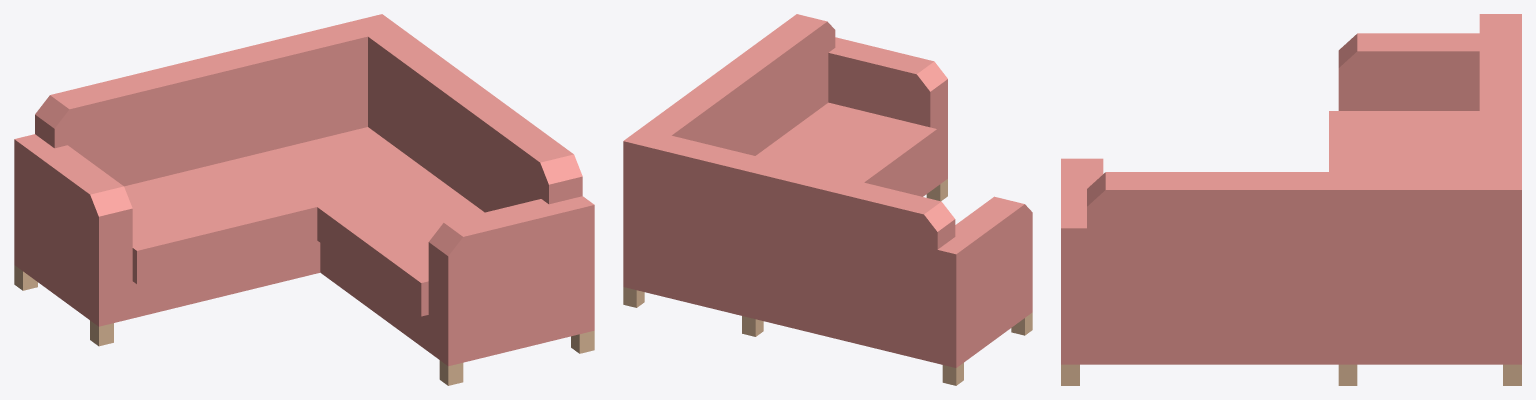
File: loungeSofaCorner.glb
The picture shows the model from 3 angles, left to right: view 1: azimuth 30°, elevation 25°; view 2: azimuth 150°, elevation 25°; view 3: azimuth 270°, elevation 25°; orthographic projection. The views are drawn at different scales.
Parts seen in each view (by area): view 1: loungeSofaCorner(Clone); view 2: loungeSofaCorner(Clone); view 3: loungeSofaCorner(Clone).
Part boxes in pixels (x1,y1,x2,y2): loungeSofaCorner(Clone): [14, 14, 594, 385]; loungeSofaCorner(Clone): [623, 14, 1032, 385]; loungeSofaCorner(Clone): [1061, 14, 1521, 385].
Bounding box in the file's own units: 1.99 × 0.9338 × 1.99.
Materials: 2 (2 with a texture image).
